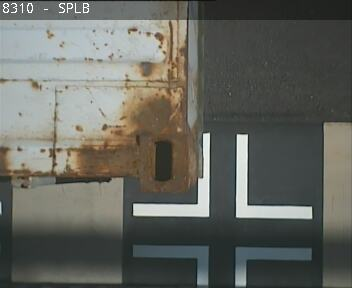groundmarker_1: (132, 134, 312, 219), (133, 244, 313, 287)
